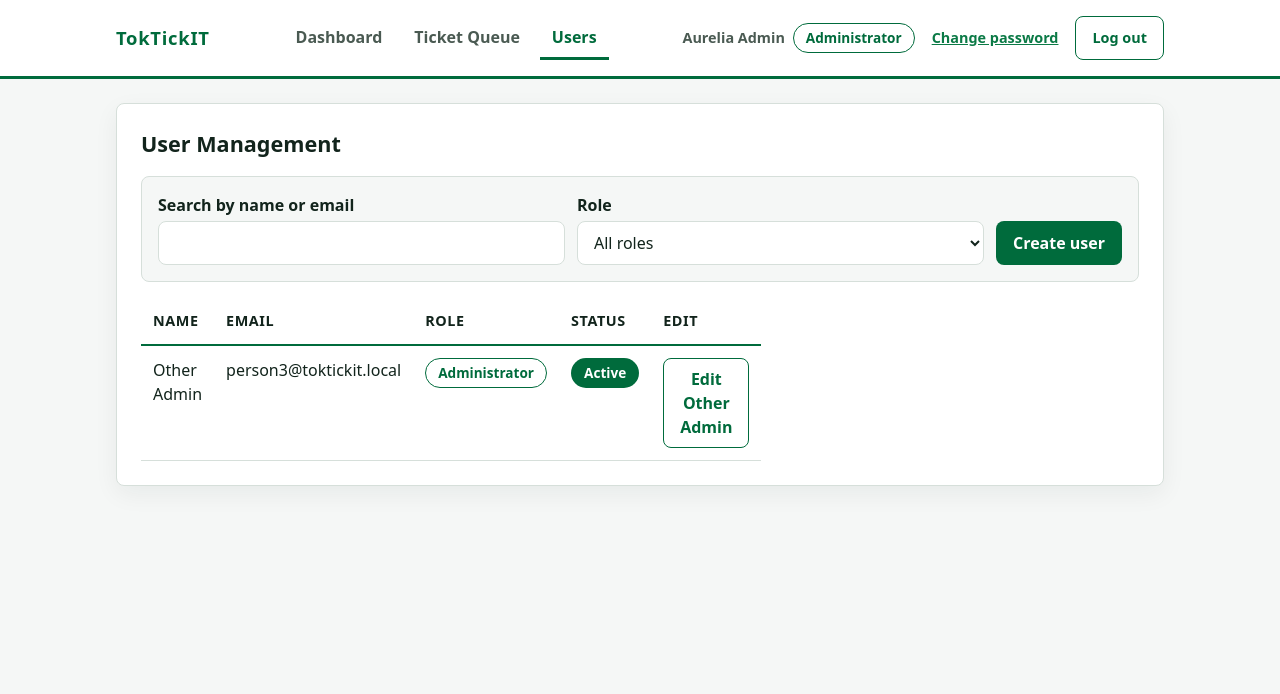
Test case: User Management — editing › shows the last-Administrator refusal as an alert
expect the heading "User Management" is shown: met, box [141,129,341,158]
Click the button "Edit Other Admin": (706, 403) [663,358,750,448]
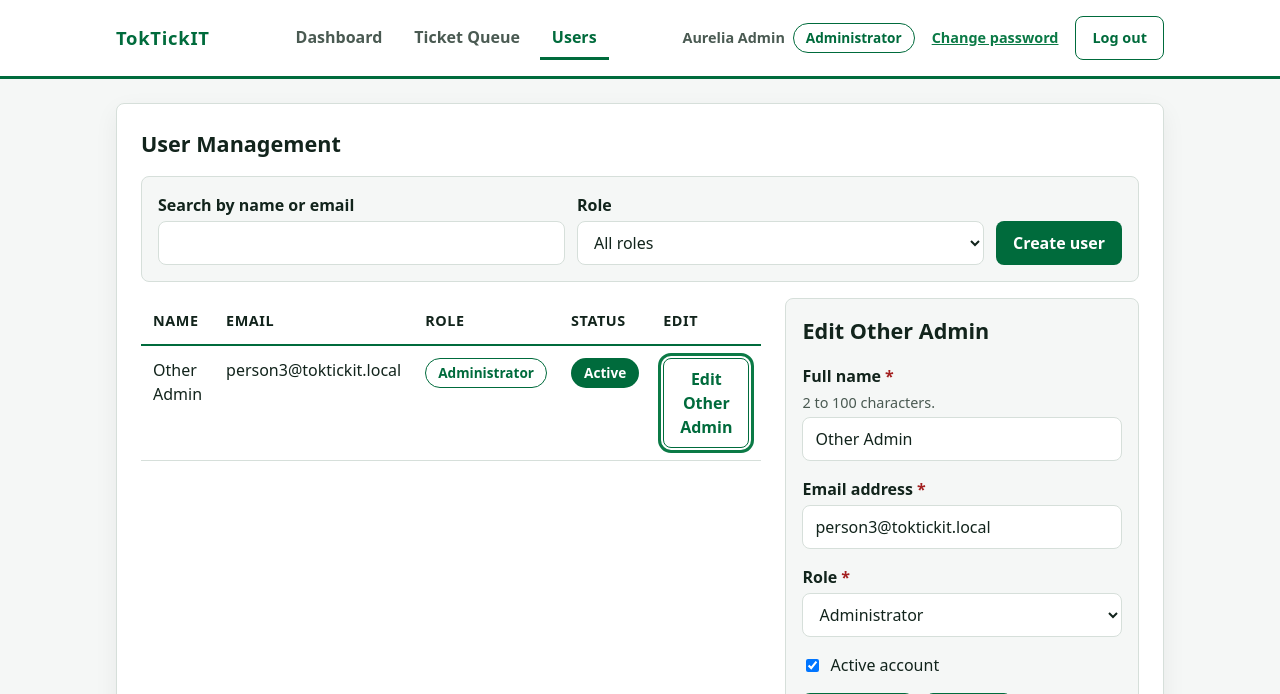
Click the checkbox labelled "Active account": (813, 665) [806,659,820,672]
(page scrolled)
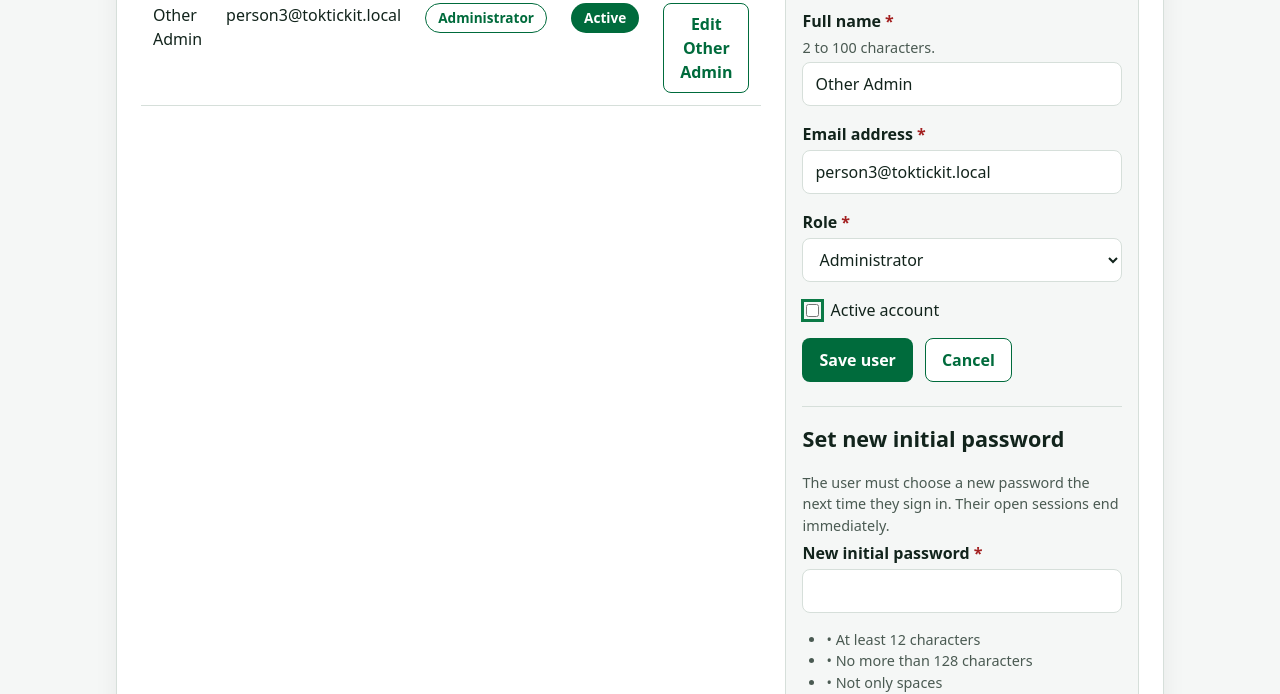
Click the button "Save user": (858, 360) [802,338,913,382]
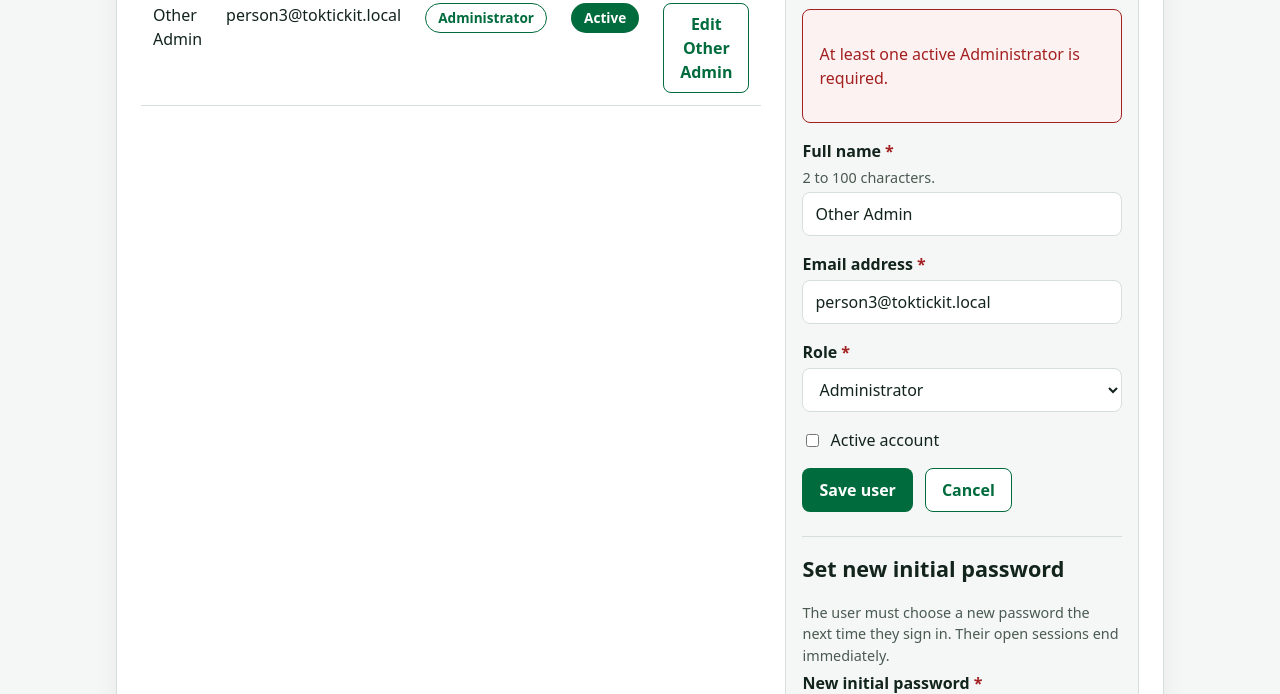
expect the message reads "At least one active Administrator is required.": met, box [820,43,1080,89]
